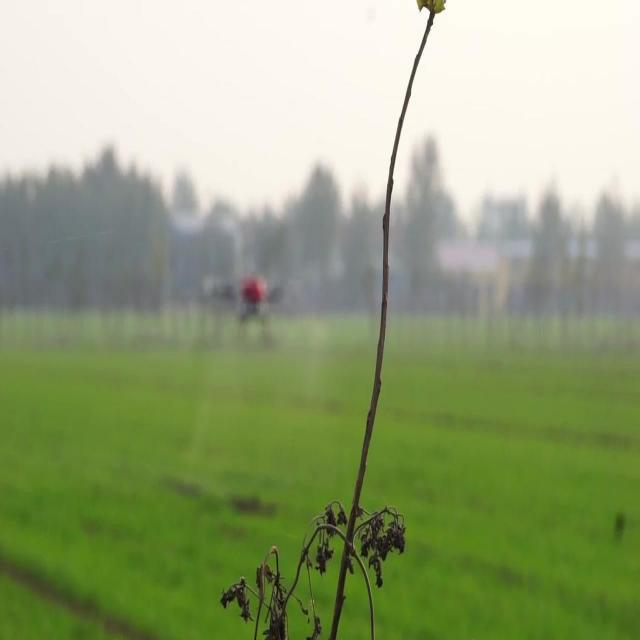UAV: (212, 276, 284, 326)
